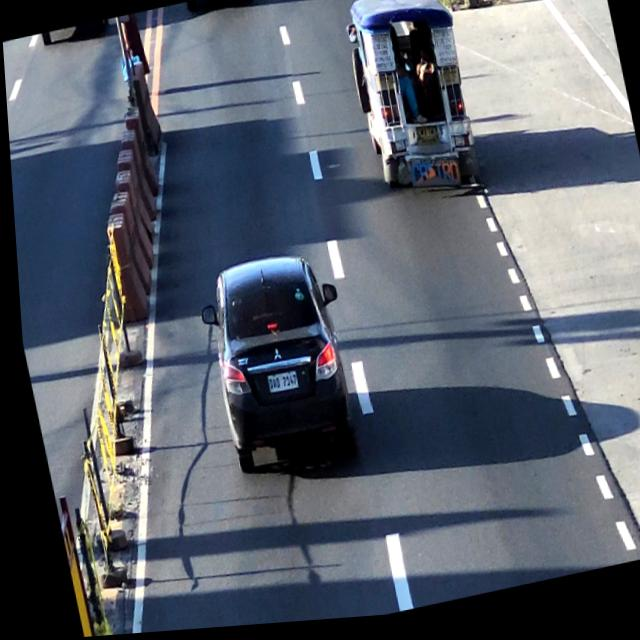Car: (194, 252, 358, 482)
Jeep: (343, 0, 483, 208)
License-Plate: (258, 372, 295, 399), (410, 128, 442, 156)
